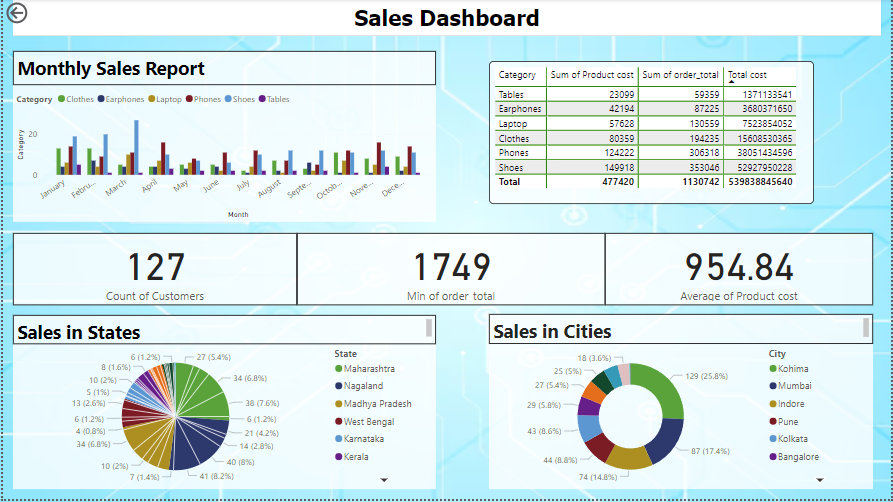

What the dashboard file says about the page in this screenshot:
{"tool":"powerbi","page":{"name":"Page 1","canvas":[1280,720],"ordinal":0},"visuals":[{"type":"shape","title":"he","box":[14.4,0,1249.9,53.3],"z":0},{"type":"card","fields":{"Values":["Count(Orders.CustomerName)"]},"box":[14.4,337,409,103.7],"z":1000},{"type":"donutChart","fields":{"Category":["Orders.City"],"Y":["CountNonNull(Orders.Category)"]},"box":[699.8,496.8,553,208.8],"z":2000},{"type":"clusteredColumnChart","fields":{"Category":["Orders.Order Date.Variation.Date Hierarchy.Month"],"Y":["CountNonNull(Orders.Category)"],"Series":["Orders.Category"]},"box":[14.4,123.8,609.1,197.3],"z":3000},{"type":"actionButton","box":[0,0,100,40],"z":4000},{"type":"pieChart","fields":{"Category":["Orders.State"],"Series":["Orders.Category"],"Y":["CountNonNull(Orders.Category)"]},"box":[14.4,496.8,609.1,208.8],"z":5000},{"type":"textbox","box":[14.4,74.9,609.1,49],"z":6000},{"type":"textbox","box":[14.4,455,609.1,41.8],"z":7000},{"type":"textbox","box":[699.8,453.6,553,43.2],"z":8000},{"type":"pivotTable","fields":{"Rows":["Orders.Category"],"Values":["Sum(Orders.Product cost)","Sum(Orders.order_total)","Orders.Total cost"]},"box":[699.8,89.3,468,205.9],"z":9000},{"type":"card","fields":{"Values":["Min(Orders.order_total)"]},"box":[423.4,337,443.5,103.7],"z":10000},{"type":"card","fields":{"Values":["Avg(Orders.Product cost)"]},"box":[866.9,337,385.9,103.7],"z":11000}]}

Visuals, with their boxes on the page's 1280x720 design canvas (x1, y1, x2, y2). These are canvas units, not pixel positions in the 893x502 screenshot, which may show the page scaled, cropped or inside an application window:
"he" shape: 14/0/1264/53
card - Count(Orders.CustomerName): 14/337/423/441
donutChart - Orders.City x CountNonNull(Orders.Category): 700/497/1253/706
clusteredColumnChart - Orders.Order Date.Variation.Date Hierarchy.Month x CountNonNull(Orders.Category): 14/124/624/321
actionButton: 0/0/100/40
pieChart - Orders.State x Orders.Category: 14/497/624/706
textbox: 14/75/624/124
textbox: 14/455/624/497
textbox: 700/454/1253/497
pivotTable - Orders.Category x Sum(Orders.Product cost): 700/89/1168/295
card - Min(Orders.order_total): 423/337/867/441
card - Avg(Orders.Product cost): 867/337/1253/441
